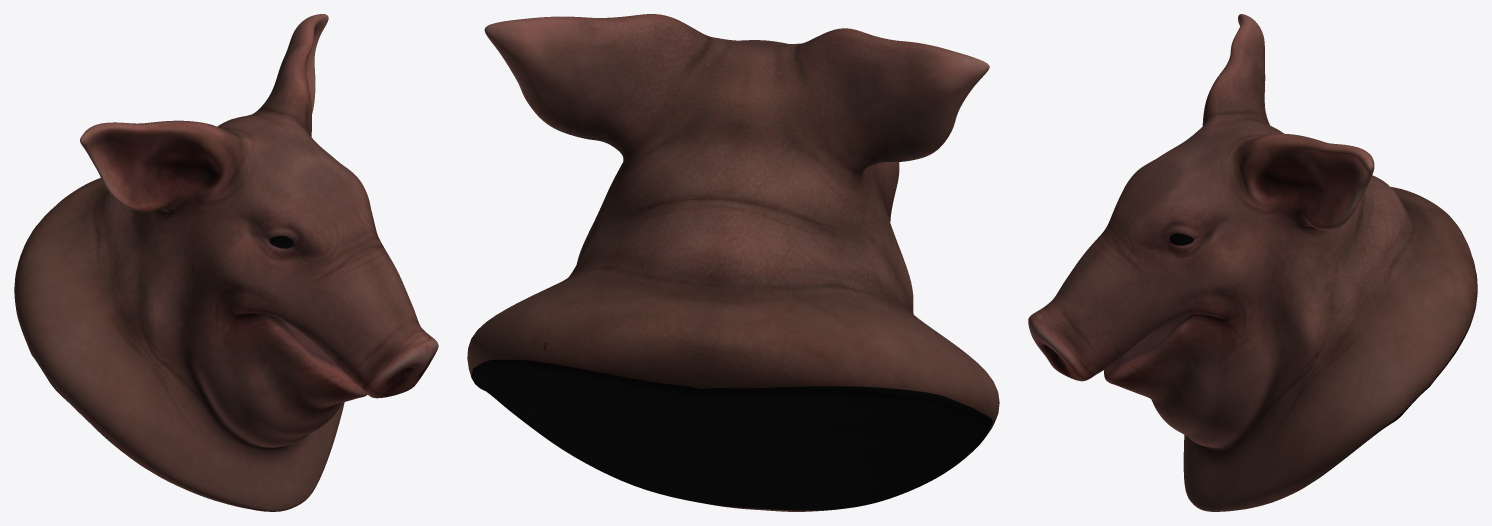
File: pighead.gltf
The picture shows the model from 3 angles, left to right: view 1: azimuth 30°, elevation 25°; view 2: azimuth 150°, elevation 25°; view 3: azimuth 270°, elevation 25°; orthographic projection. The views are drawn at different scales.
Parts seen in each view (by area): view 1: pighead; view 2: pighead; view 3: pighead.
Part boxes in pixels (x1,y1,x2,y2): pighead: (14, 14, 438, 511); pighead: (467, 14, 999, 511); pighead: (1028, 14, 1477, 511).
Bounding box in the file's own units: 1.44 × 1.64 × 1.66.
1 material, 1 textured.
